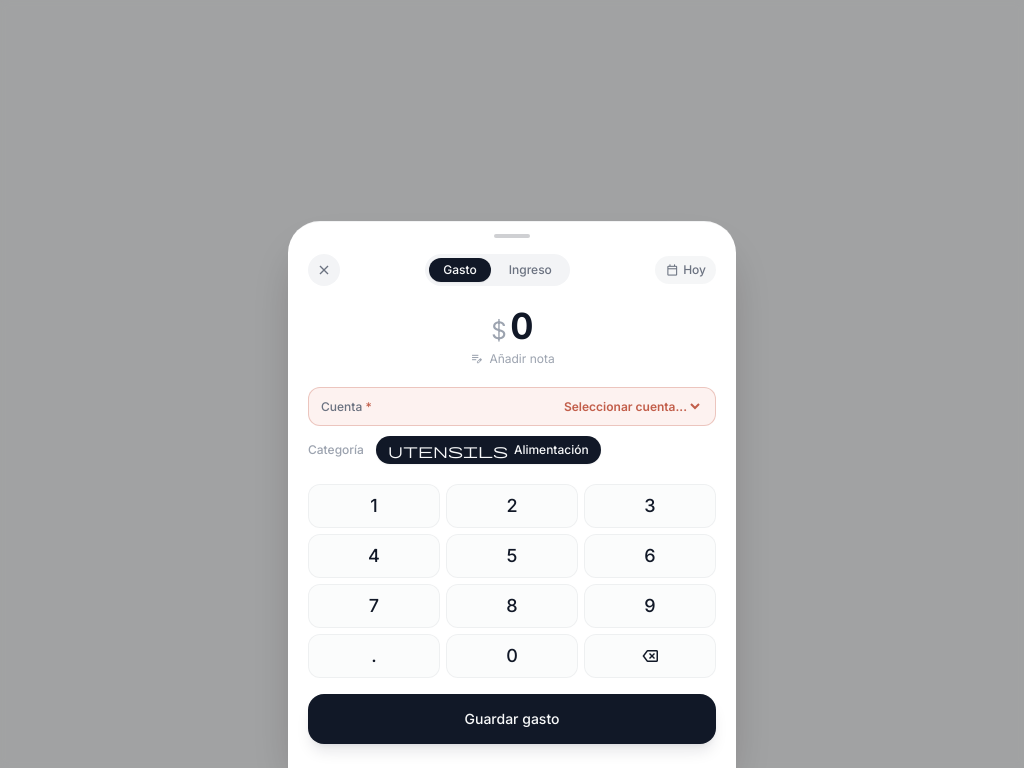
it: TransactionModal › construye el monto con el teclado
Click the button "4" at [374, 556], box [308,534,440,578]
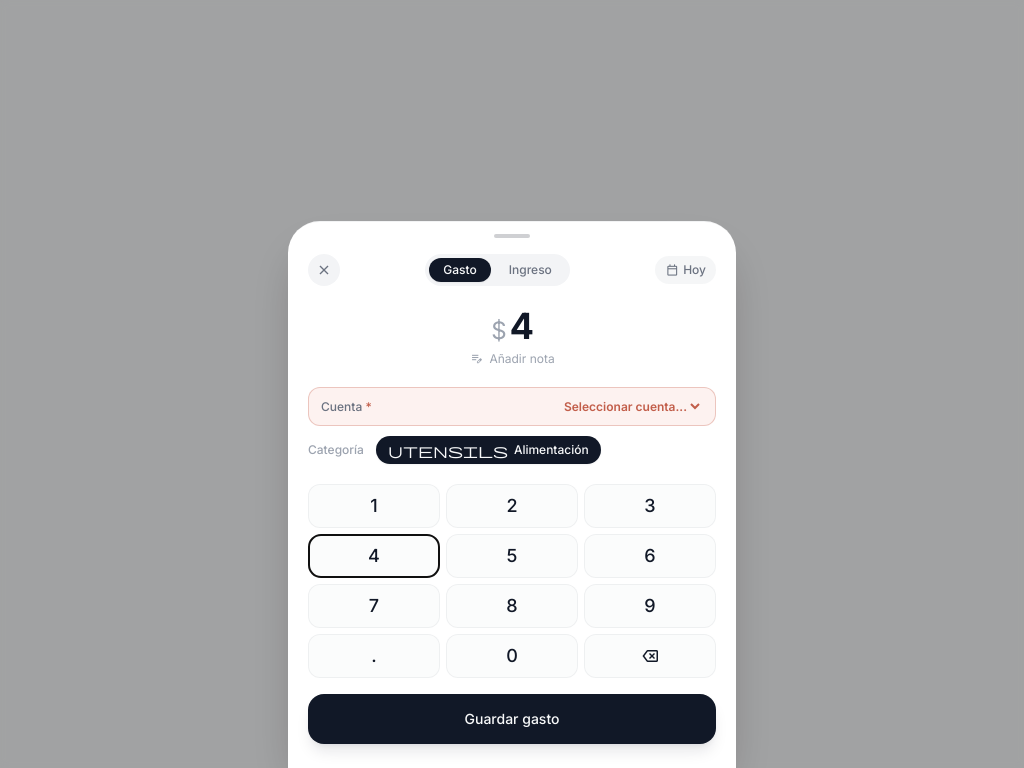
Click the button "5" at [512, 556], box [446,534,578,578]
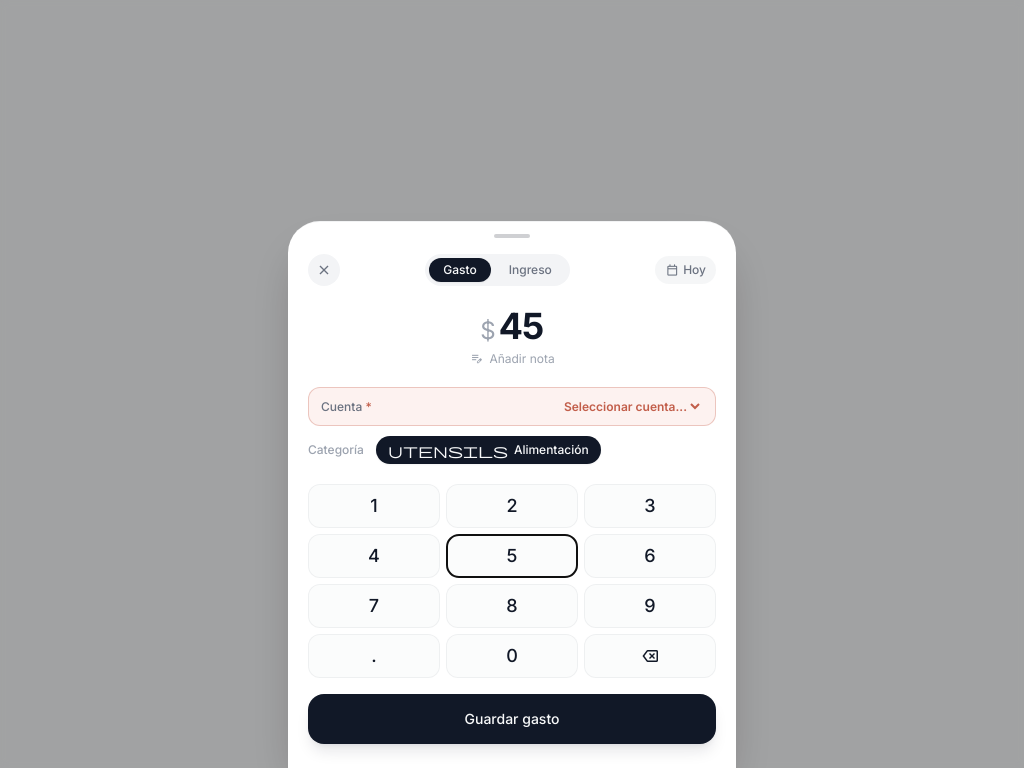
Click the button "." at [374, 656], box [308,634,440,678]
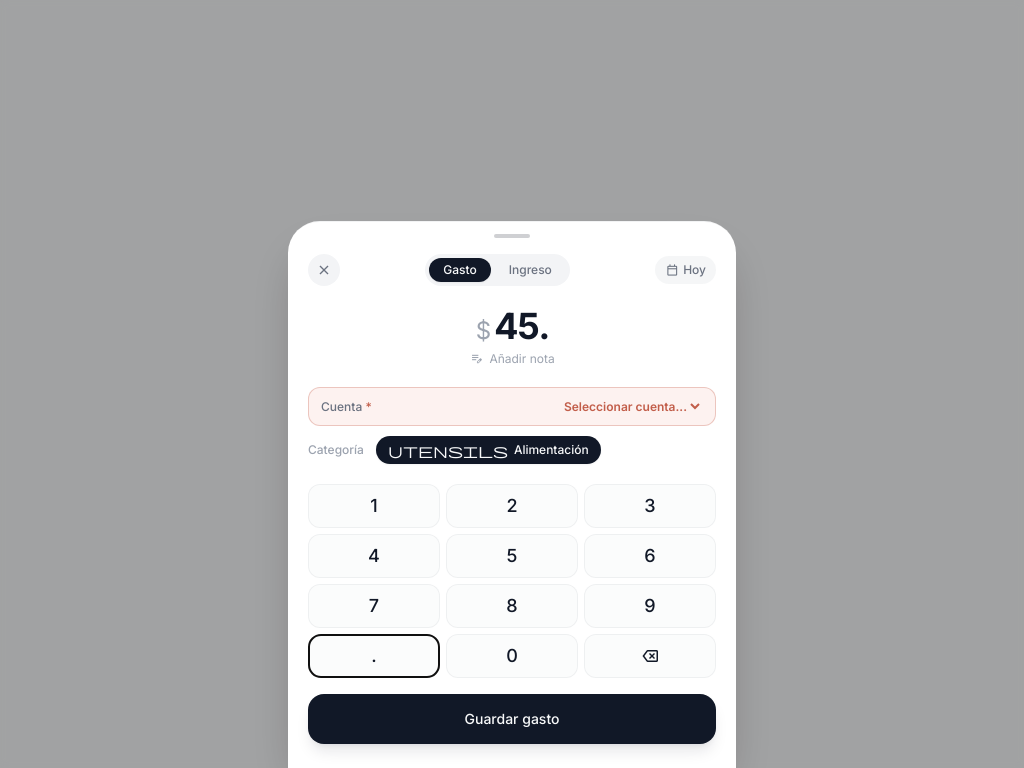
Click the button "5" at [512, 556], box [446,534,578,578]
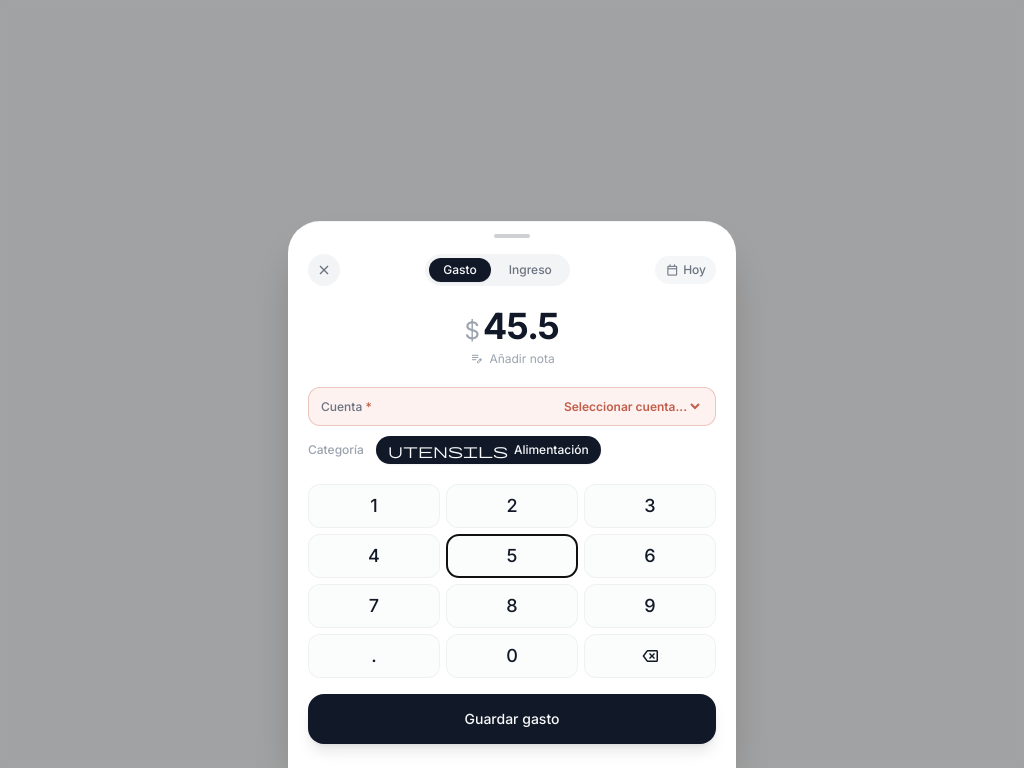
Click the button "0" at [512, 656], box [446,634,578,678]
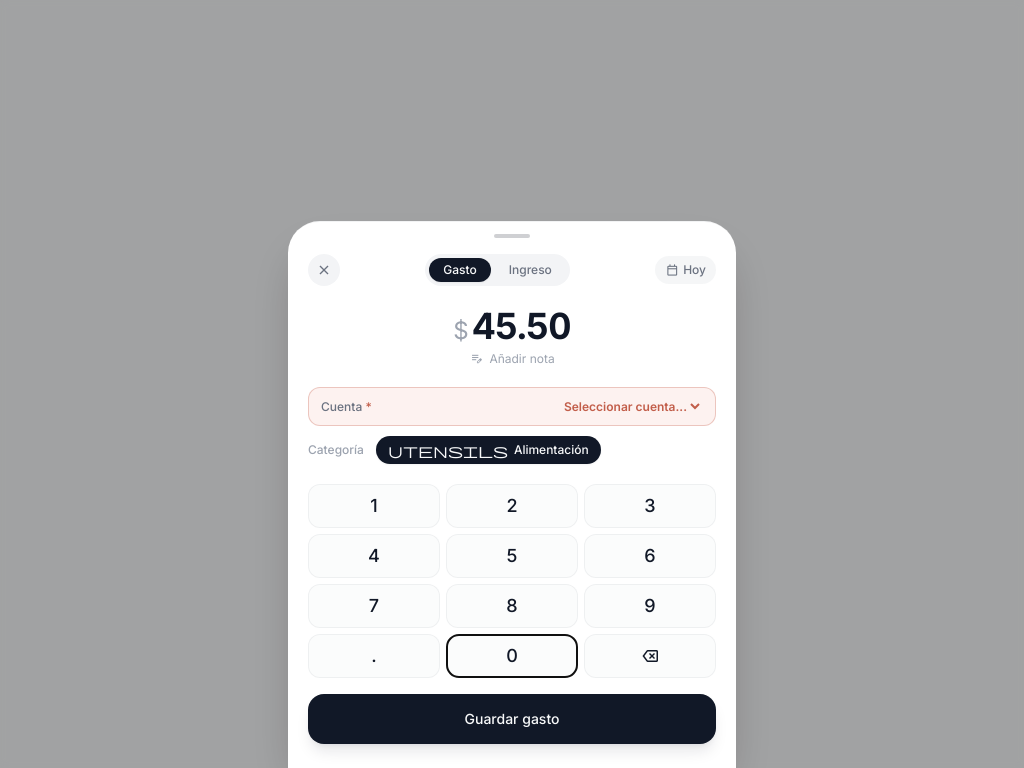
Expected: the text "45.50" is shown, [472,306,571,346]
